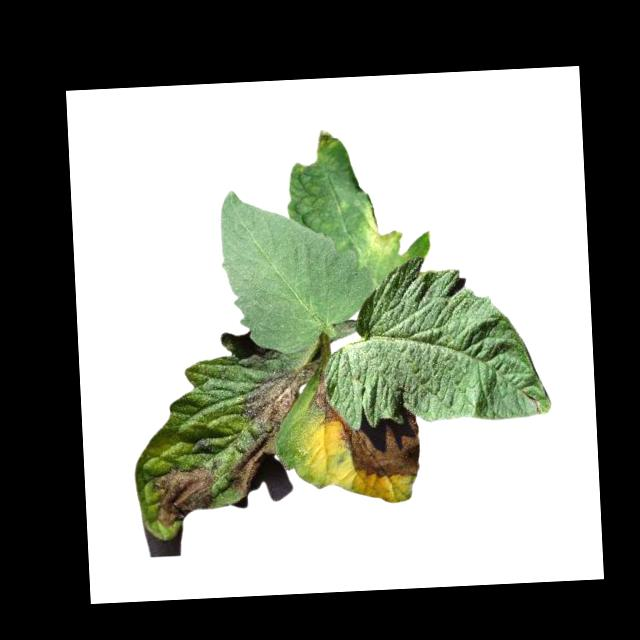Late_blight: (222, 357, 329, 497), (341, 415, 422, 481), (151, 462, 222, 527), (363, 199, 403, 262), (313, 368, 340, 422), (316, 128, 342, 152)
